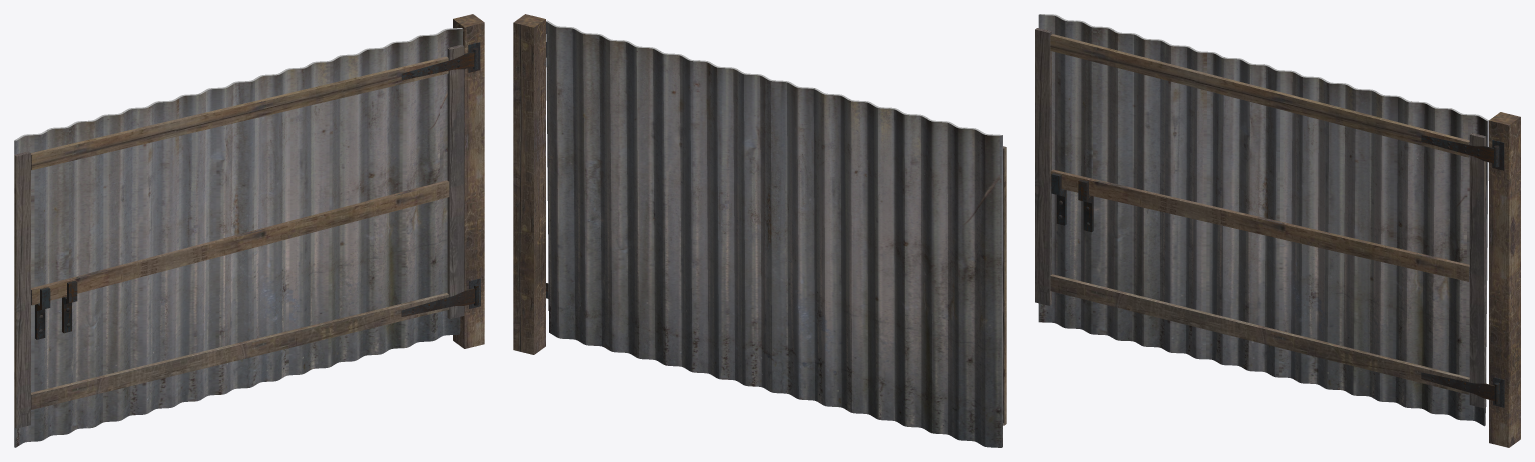
File: fence_doorpostright.fbx
3 renders of one model, left to right at view 1: azimuth 30°, elevation 25°; view 2: azimuth 150°, elevation 25°; view 3: azimuth 330°, elevation 25°, orthographic.
Visible parts, largest first — view 1: fence_doorpostright; view 2: fence_doorpostright; view 3: fence_doorpostright.
Boxes of the visible parts, bbox=[...] form: fence_doorpostright: bbox=[14, 14, 484, 447]; fence_doorpostright: bbox=[513, 14, 1006, 447]; fence_doorpostright: bbox=[1035, 14, 1520, 447].
Bounding box in the file's own units: 4.08 × 2.67 × 0.2783.
3 materials, 3 textured.
